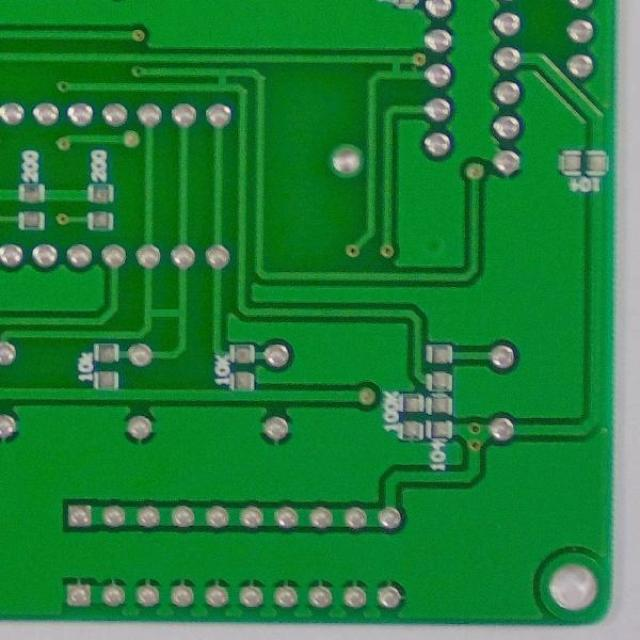short: (138, 296, 193, 328), (208, 64, 236, 95), (382, 52, 408, 81)
